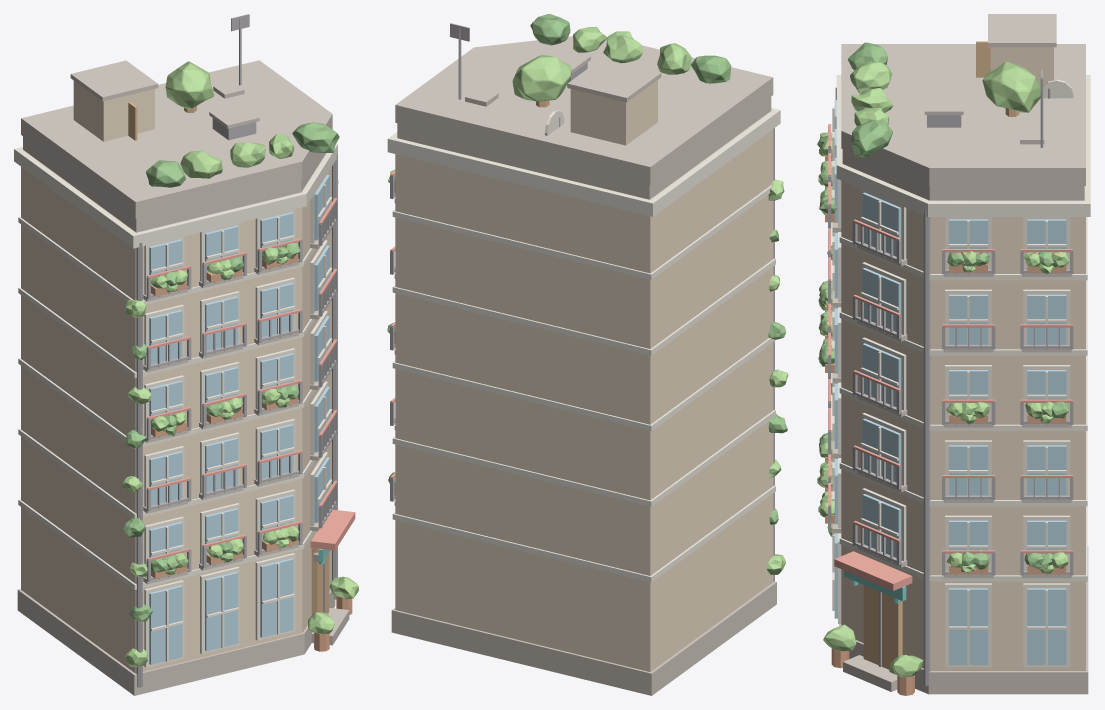
Rendered from Building_Corner_A.fbx.
3 renders of one model, left to right at view 1: azimuth 30°, elevation 25°; view 2: azimuth 150°, elevation 25°; view 3: azimuth 270°, elevation 25°, orthographic. The views are drawn at different scales.
Parts seen in each view (by area): view 1: Building_Corner_A, Building_Corner_A_Veg; view 2: Building_Corner_A, Building_Corner_A_Veg; view 3: Building_Corner_A, Building_Corner_A_Veg.
Boxes of the visible parts, x1=… form: Building_Corner_A: x1=14, y1=14, x2=355, y2=695; Building_Corner_A_Veg: x1=122, y1=61, x2=358, y2=666; Building_Corner_A: x1=387, y1=23, x2=780, y2=695; Building_Corner_A_Veg: x1=387, y1=14, x2=788, y2=574; Building_Corner_A: x1=828, y1=14, x2=1090, y2=694; Building_Corner_A_Veg: x1=817, y1=42, x2=1069, y2=695.
Bounding box in the file's own units: 6.84 × 13.5 × 5.6.
